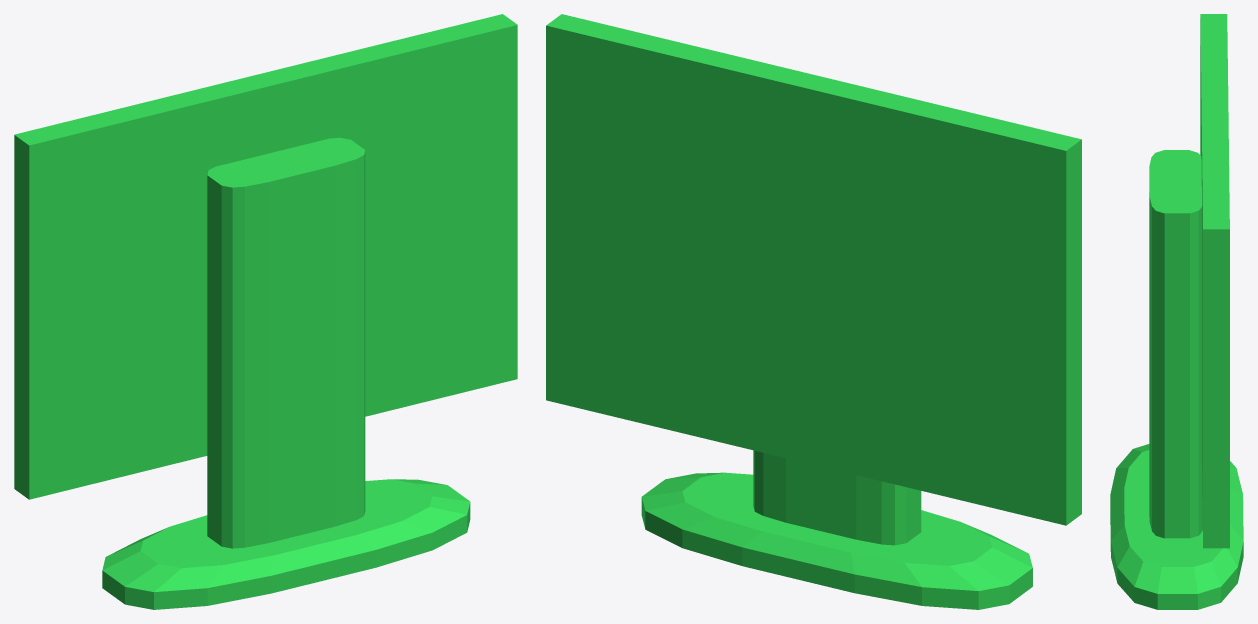
The picture shows the model from 3 angles, left to right: view 1: azimuth 30°, elevation 25°; view 2: azimuth 150°, elevation 25°; view 3: azimuth 270°, elevation 25°; orthographic projection. The views are drawn at different scales.
Visible parts, largest first — view 1: Cube.094; view 2: Cube.094; view 3: Cube.094.
Boxes of the visible parts, x1,y1,x2,y2 form: Cube.094: [14, 14, 517, 609]; Cube.094: [546, 14, 1081, 609]; Cube.094: [1110, 14, 1243, 609].
Bounding box in the file's own units: 119 × 106 × 31.13.
